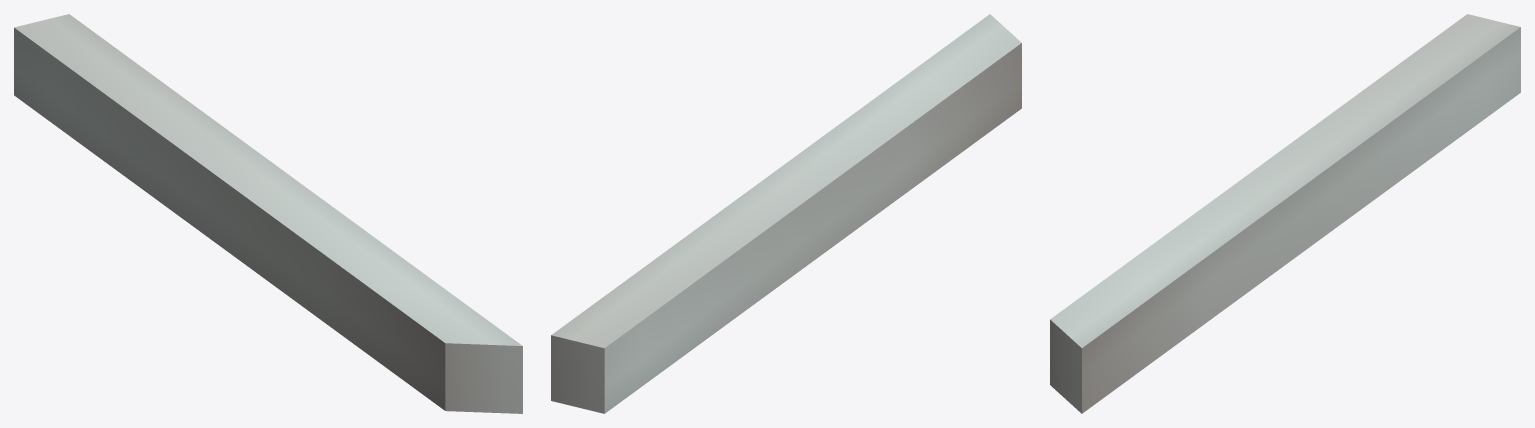
3 renders of one model, left to right at view 1: azimuth 30°, elevation 25°; view 2: azimuth 150°, elevation 25°; view 3: azimuth 330°, elevation 25°, orthographic. The views are drawn at different scales.
Visible parts, largest first — view 1: Field_block_01; view 2: Field_block_01; view 3: Field_block_01.
Part boxes in pixels (x1=…): Field_block_01: x1=14, y1=14, x2=522, y2=413; Field_block_01: x1=551, y1=14, x2=1021, y2=413; Field_block_01: x1=1050, y1=14, x2=1520, y2=413.
Bounding box in the file's own units: 0.5941 × 0.6974 × 8.45.
1 material, 1 textured.
